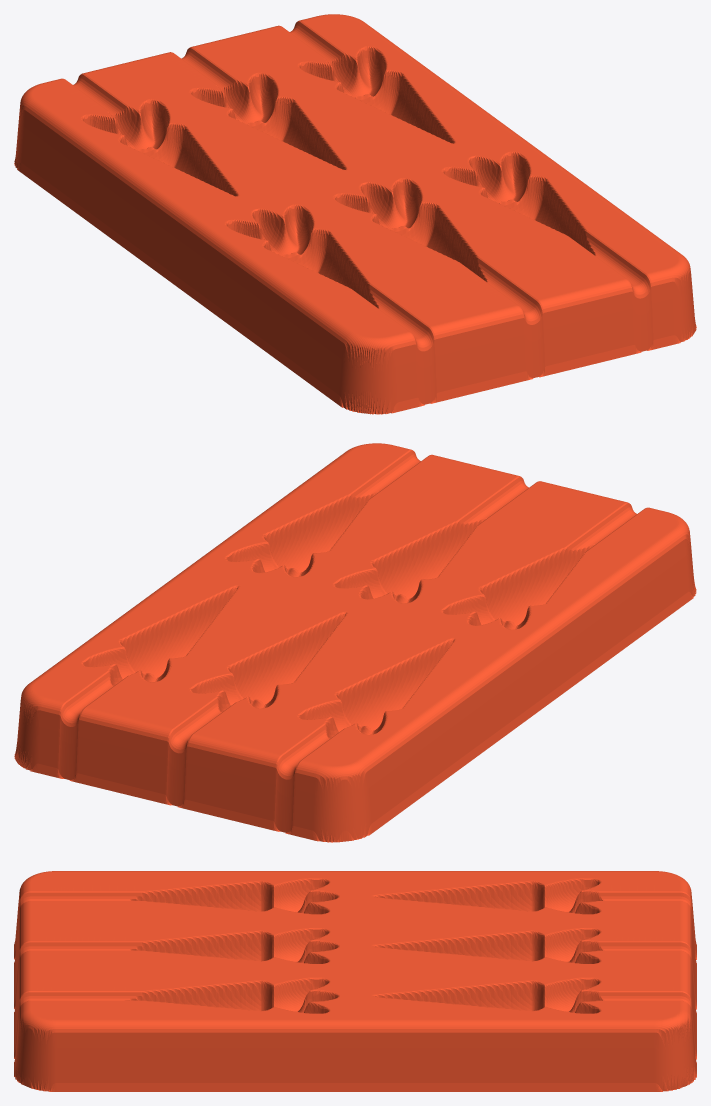
Rendered from mold.glb.
3 renders of one model, top to bottom at view 1: azimuth 30°, elevation 25°; view 2: azimuth 150°, elevation 25°; view 3: azimuth 270°, elevation 25°, orthographic. The views are drawn at different scales.
Visible parts, largest first — view 1: geometry_0; view 2: geometry_0; view 3: geometry_0.
Boxes of the visible parts, x1=… form: geometry_0: x1=14, y1=14, x2=696, y2=414; geometry_0: x1=14, y1=443, x2=696, y2=842; geometry_0: x1=14, y1=871, x2=696, y2=1091.
Size of the model in its own units: 0.0829 by 0.0155 by 0.1477.
